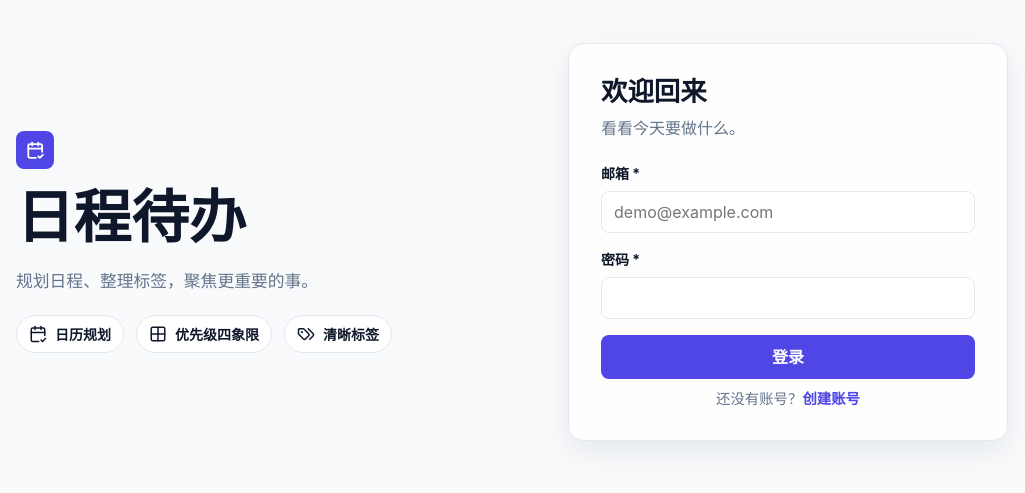
Test: frontend app › validates the login form
This screenshot has width=1025, height=493.
Click the button "登录": {"x": 788, "y": 357} [601,335,975,379]
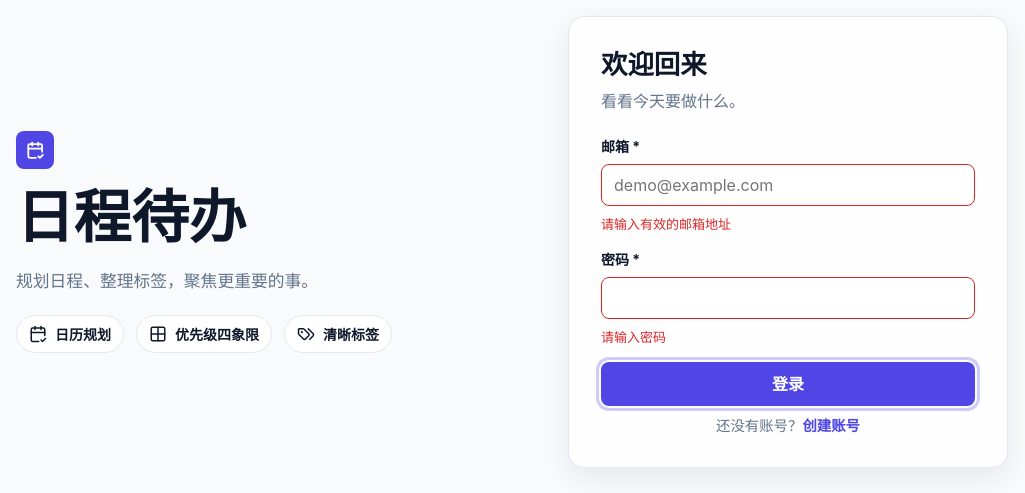
Expected: the text "请输入有效的邮箱地址" is shown, [601,216,731,232]
Expected: the text "请输入密码" is shown, [601,329,666,345]
